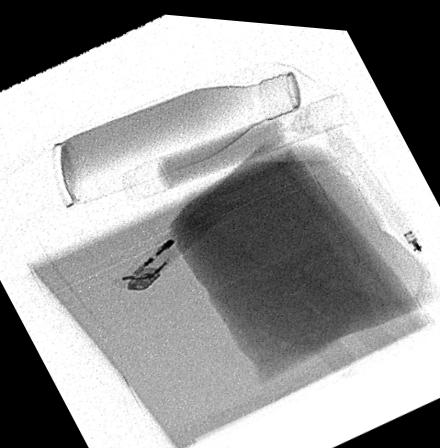Lighter: (107, 138, 290, 289)
